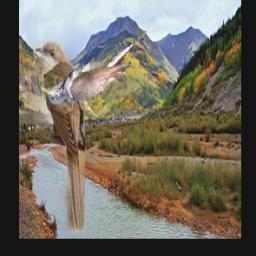Cuckoo: (33, 42, 85, 235), (41, 28, 148, 105)
